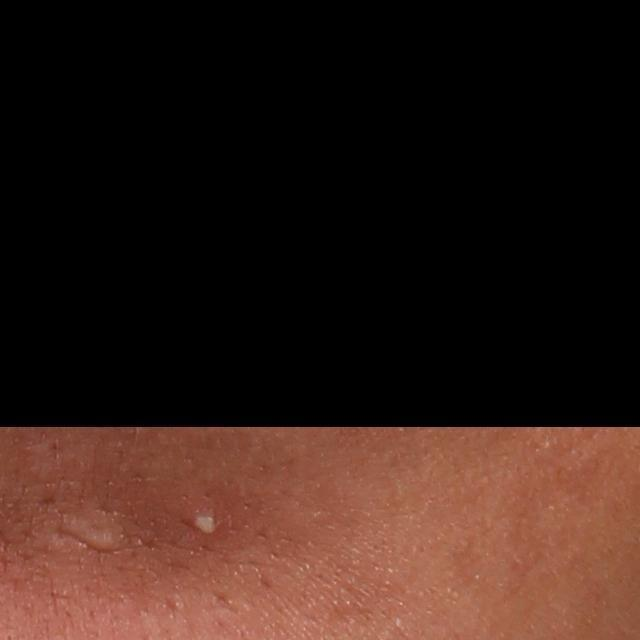hypertrophic_scar: (66, 517, 120, 552)
pustule: (176, 498, 233, 539)
